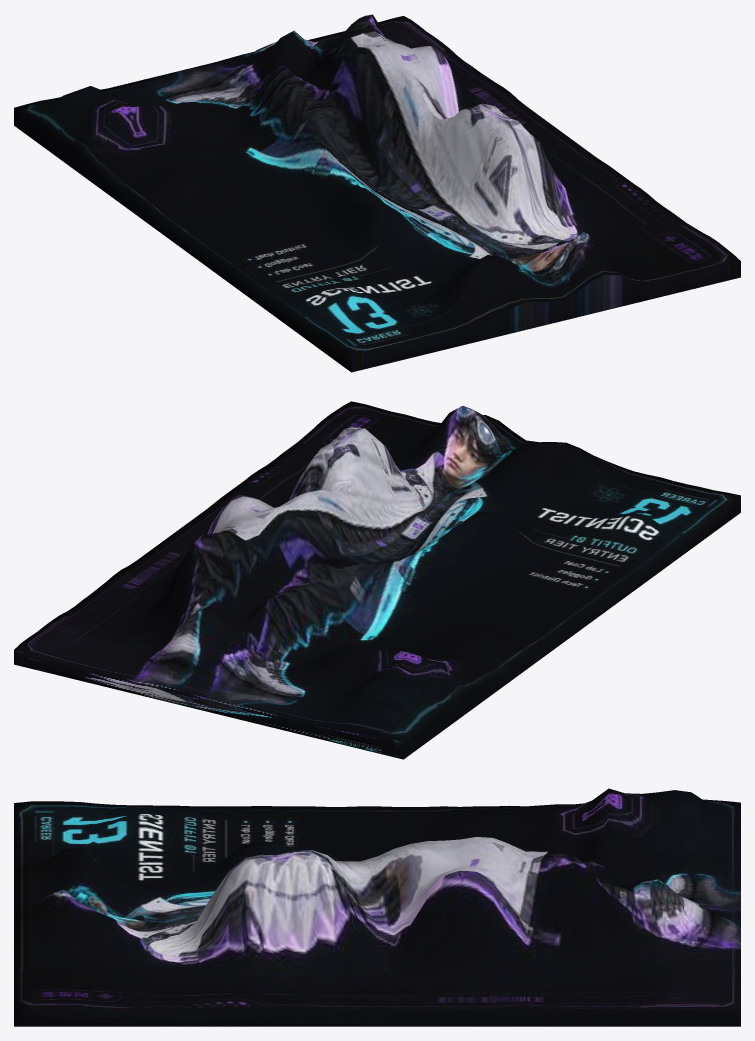
The model's file is CAREER_13_Outfit_01_Entry.glb.
The picture shows the model from 3 angles, top to bottom: view 1: azimuth 30°, elevation 25°; view 2: azimuth 150°, elevation 25°; view 3: azimuth 270°, elevation 25°; orthographic projection. The views are drawn at different scales.
Parts seen in each view (by area): view 1: CAREER_13_Outfit_01_Entry; view 2: CAREER_13_Outfit_01_Entry; view 3: CAREER_13_Outfit_01_Entry.
Boxes of the visible parts, x1,y1,x2,y2 form: CAREER_13_Outfit_01_Entry: (14,14,740,372); CAREER_13_Outfit_01_Entry: (14,401,740,759); CAREER_13_Outfit_01_Entry: (14,788,740,1026).
Bounding box in the file's own units: 2 × 0.51 × 3.
1 material, 1 textured.
